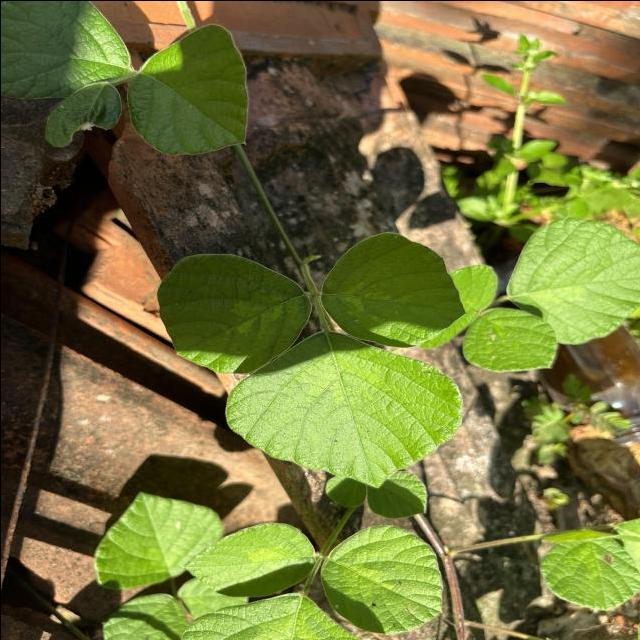Pseudarthria viscida: (154, 228, 466, 490)
